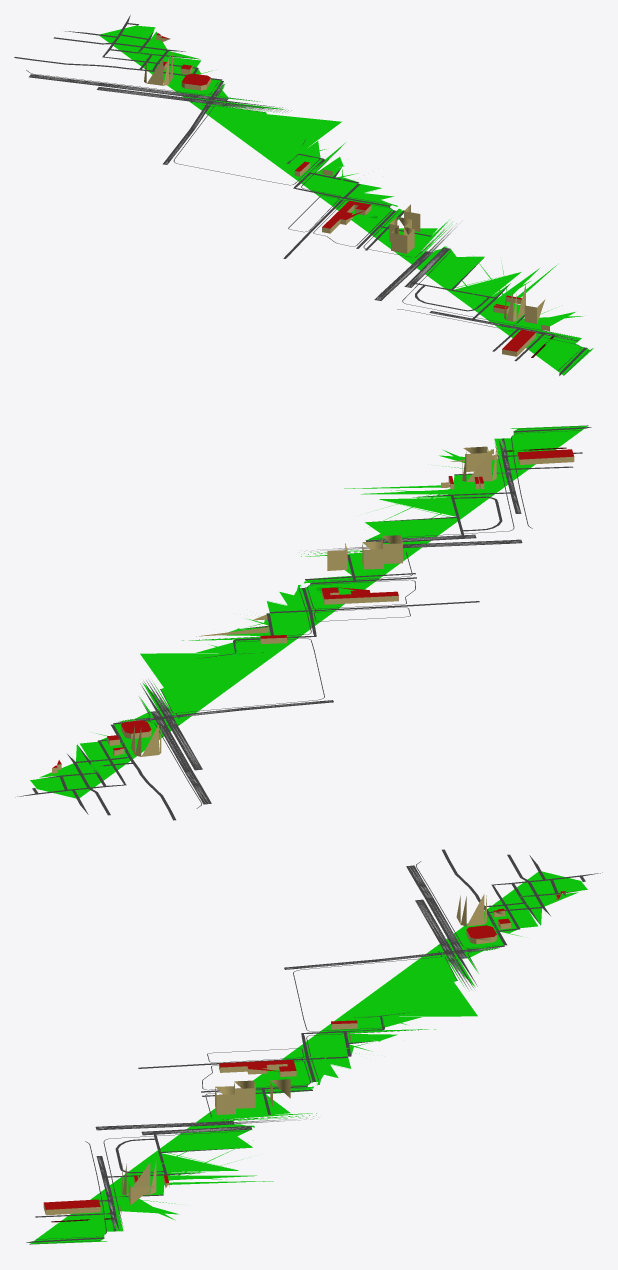
3 views of the same model, one above another, from view 1: azimuth 30°, elevation 25°; view 2: azimuth 150°, elevation 25°; view 3: azimuth 330°, elevation 25° (orthographic). The views are drawn at different scales.
Bounding box in the file's own units: 332 × 45 × 1356.
